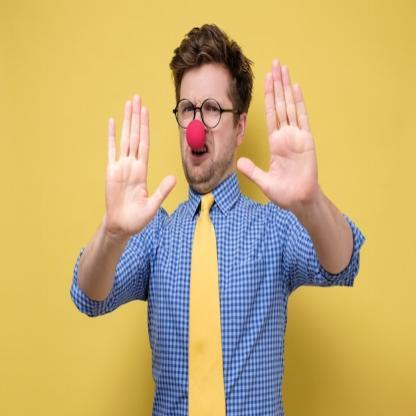stop: (236, 56, 322, 216), (101, 92, 180, 237)
